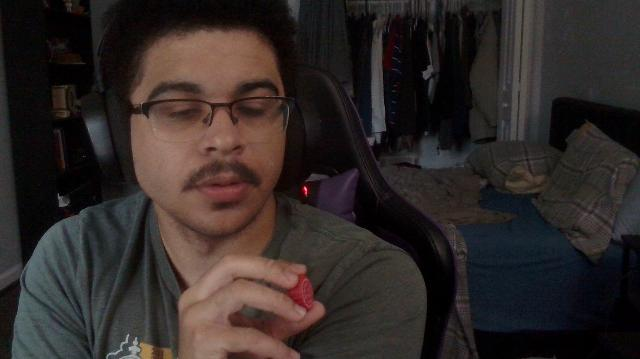cap: (290, 274, 314, 312)
